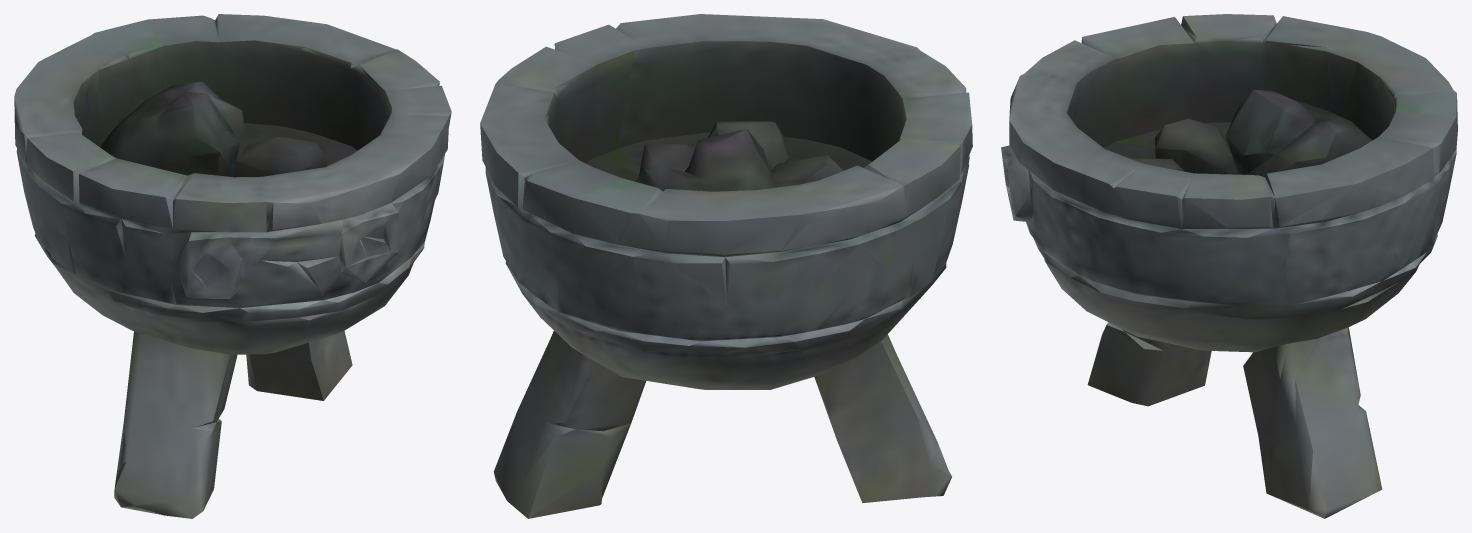
Rendered from brasero_cueva.glb.
The picture shows the model from 3 angles, left to right: view 1: azimuth 30°, elevation 25°; view 2: azimuth 150°, elevation 25°; view 3: azimuth 270°, elevation 25°; orthographic projection. The views are drawn at different scales.
Visible parts, largest first — view 1: brasero_cueva_malla; view 2: brasero_cueva_malla; view 3: brasero_cueva_malla.
Part boxes in pixels (x1,y1,x2,y2): brasero_cueva_malla: (14,14,451,518); brasero_cueva_malla: (480,14,972,518); brasero_cueva_malla: (1001,14,1457,518).
Size of the model in its own units: 0.1219 by 0.1035 by 0.1272.
1 material, 1 textured.
